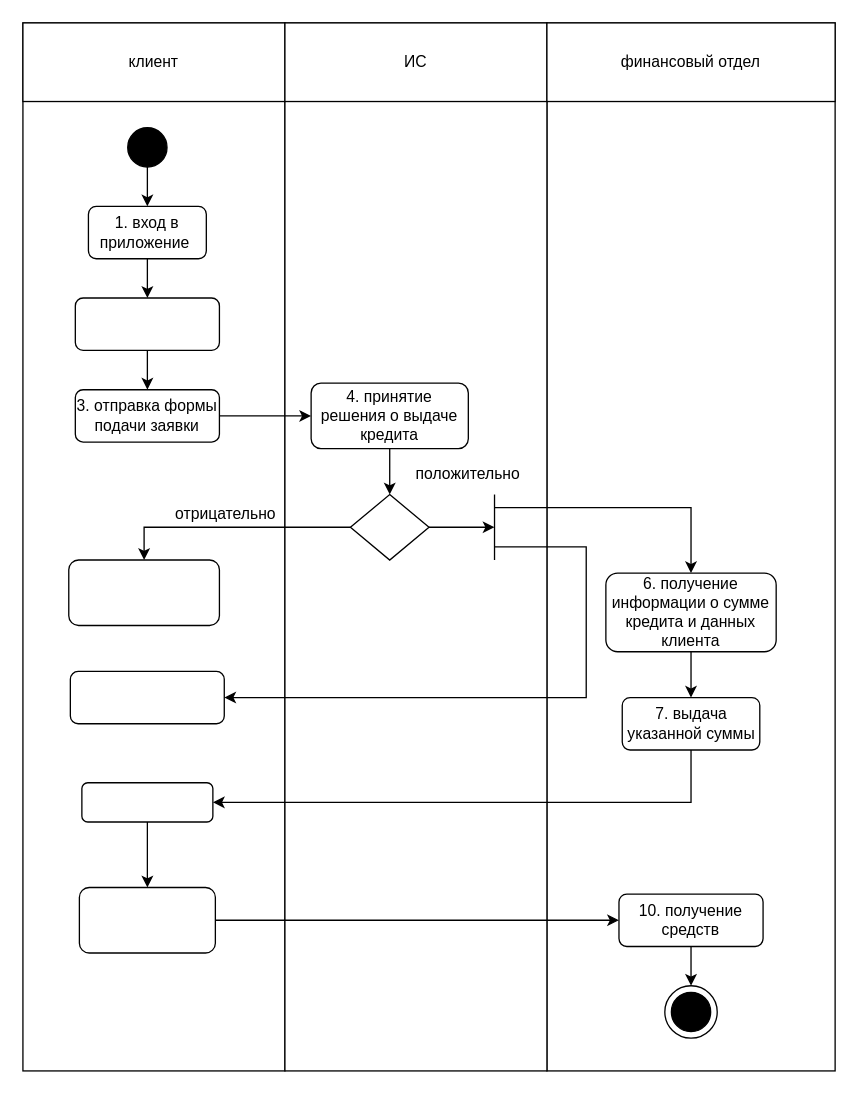
Some shapes in this 858 by 1094 pixel diagram are drawn without their labels. Here are the shapes that lost their labels. From the top down, the centre of each, then its label:
At pixel 146 323: "2. выбор варианта кредитования".
At pixel 143 592: "5. получение сообщения об отказе".
At pixel 146 697: "5. получение сообщения об одобрении".
At pixel 147 801: "8. получение средств".
At pixel 146 919: "9. возврат с процентами, перевод средств".
